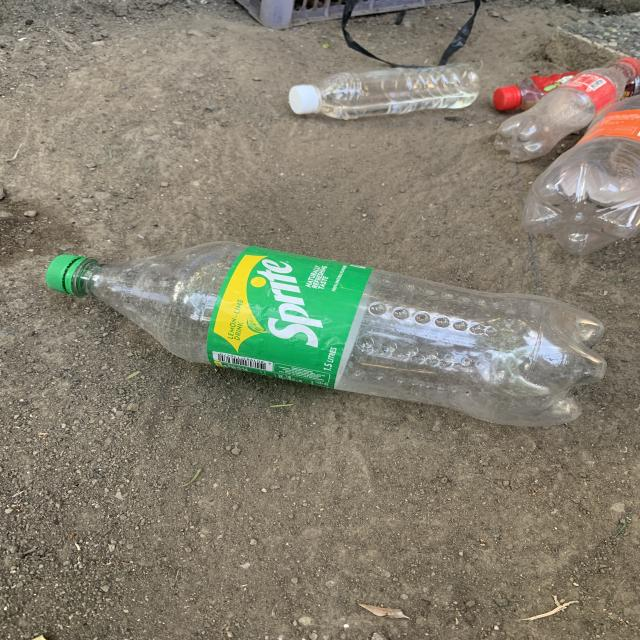Bottle: (46, 242, 606, 426)
